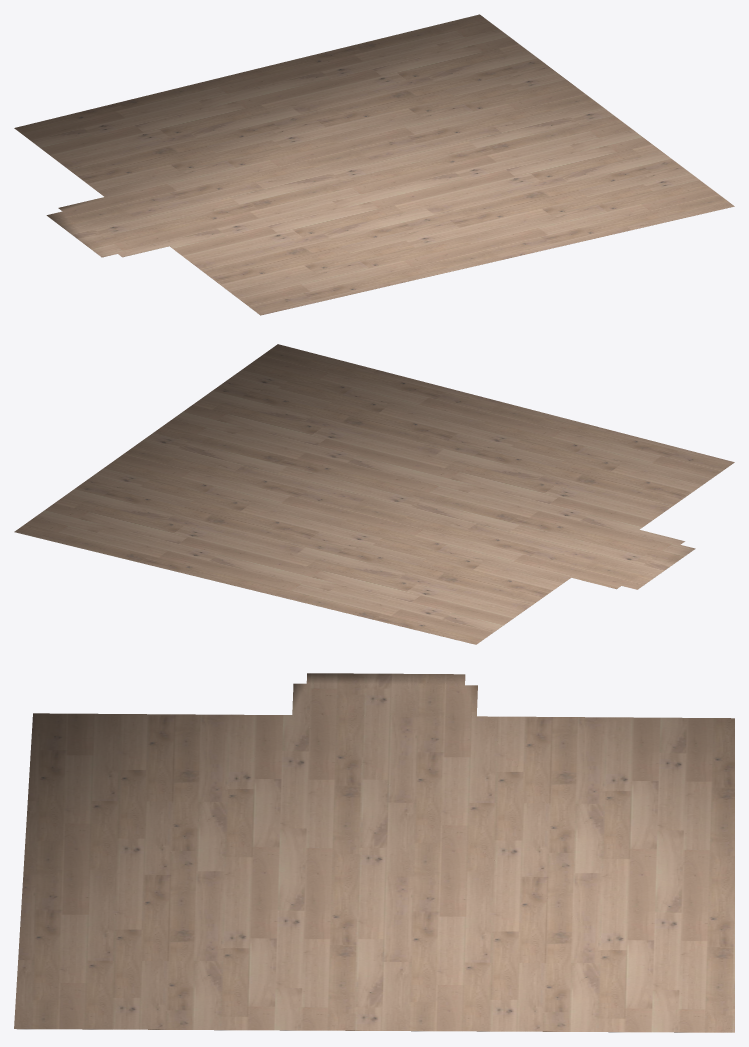
Rendered from pavimentoCamera.glb.
3 views of the same model, one above another, from view 1: azimuth 30°, elevation 25°; view 2: azimuth 150°, elevation 25°; view 3: azimuth 270°, elevation 25° (orthographic). The views are drawn at different scales.
Parts seen in each view (by area): view 1: PavimentoCamera; view 2: PavimentoCamera; view 3: PavimentoCamera.
Boxes of the visible parts, left/top/right/bottom form: PavimentoCamera: left=14, top=14, right=734, bottom=315; PavimentoCamera: left=14, top=344, right=734, bottom=644; PavimentoCamera: left=14, top=673, right=734, bottom=1032.
Bounding box in the file's own units: 6.9 × 0.001 × 5.85.
Materials: 1 (1 with a texture image).
